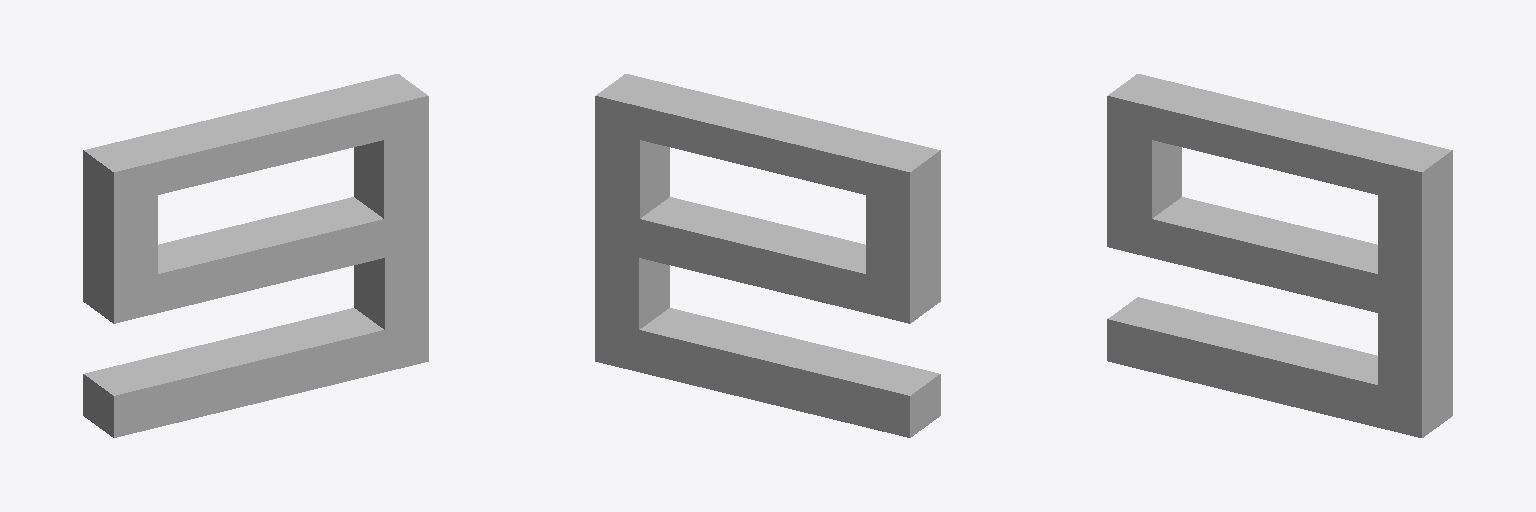
File: nine.obj
The picture shows the model from 3 angles: view 1: azimuth 30°, elevation 25°; view 2: azimuth 150°, elevation 25°; view 3: azimuth 330°, elevation 25°; orthographic projection.
Parts seen in each view (by area): view 1: Cube.007_Cube.008; view 2: Cube.007_Cube.008; view 3: Cube.007_Cube.008.
Boxes of the visible parts, box(x1,y1,x2,y2) form: Cube.007_Cube.008: box(83, 74, 428, 437); Cube.007_Cube.008: box(595, 74, 940, 437); Cube.007_Cube.008: box(1107, 74, 1452, 437).
Bounding box in the file's own units: 0.5993 × 0.4841 × 0.1.